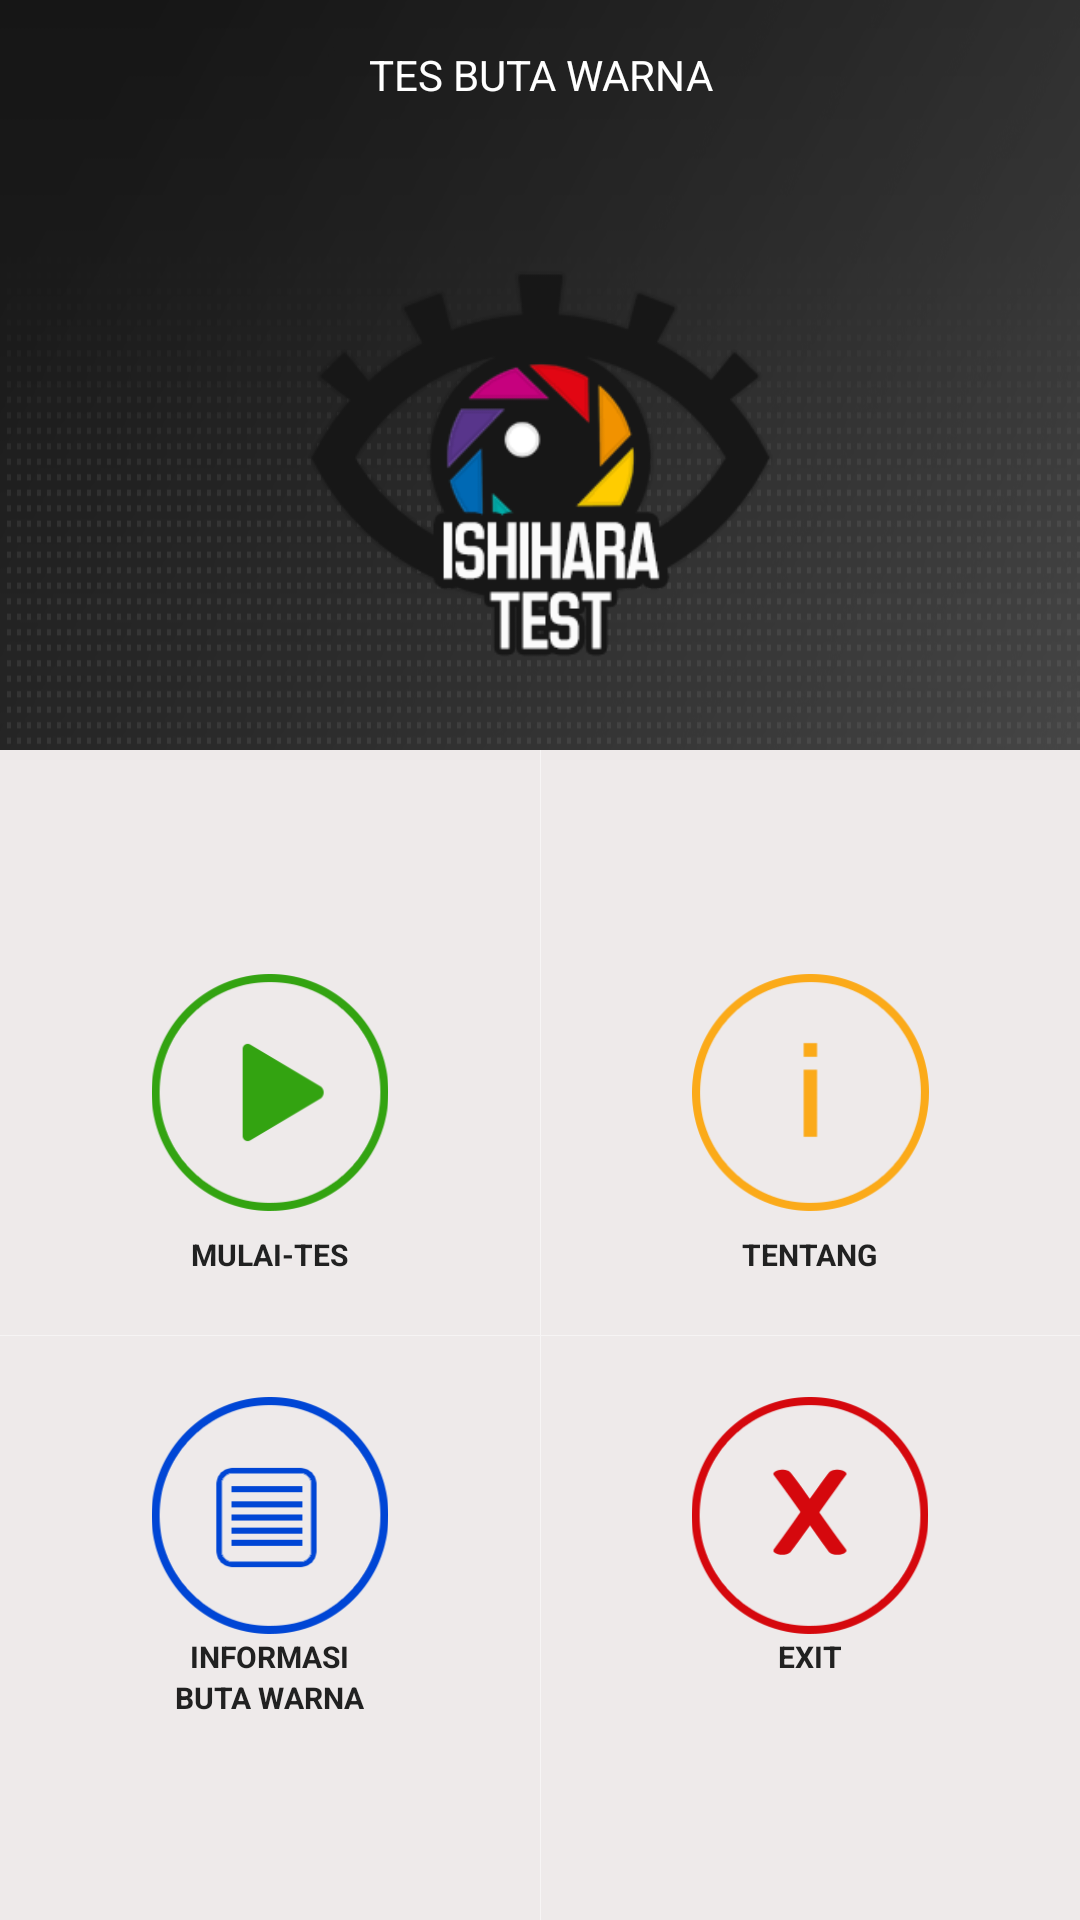

Icons on this 1080 x 1920 Android screen, each with its box as bbox(x1, y1, x2, y2):
service play: bbox(152, 974, 388, 1211)
service txt: bbox(152, 1397, 388, 1634)
